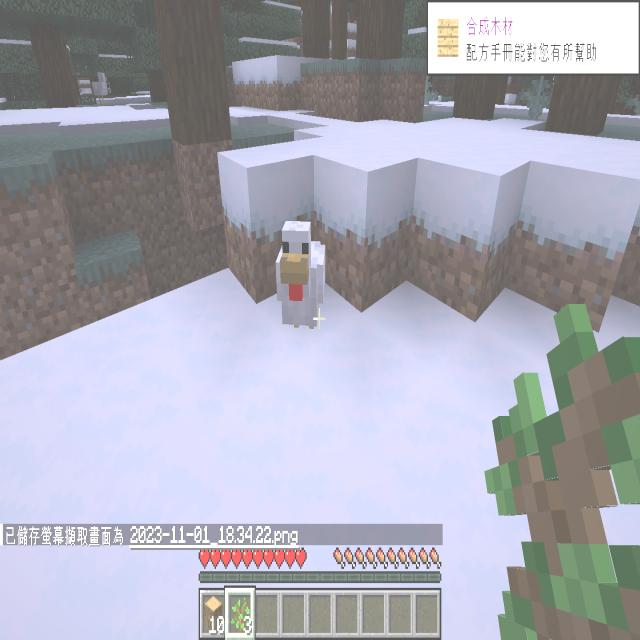chicken: (262, 200, 351, 356)
